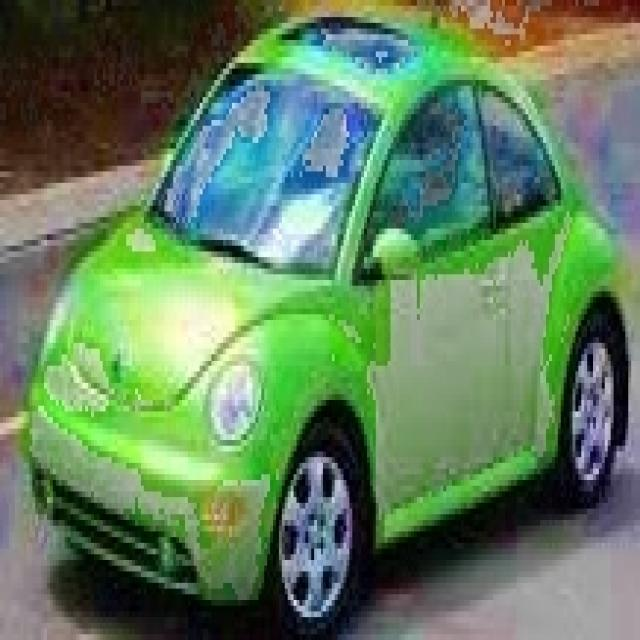green: (26, 6, 632, 628)
